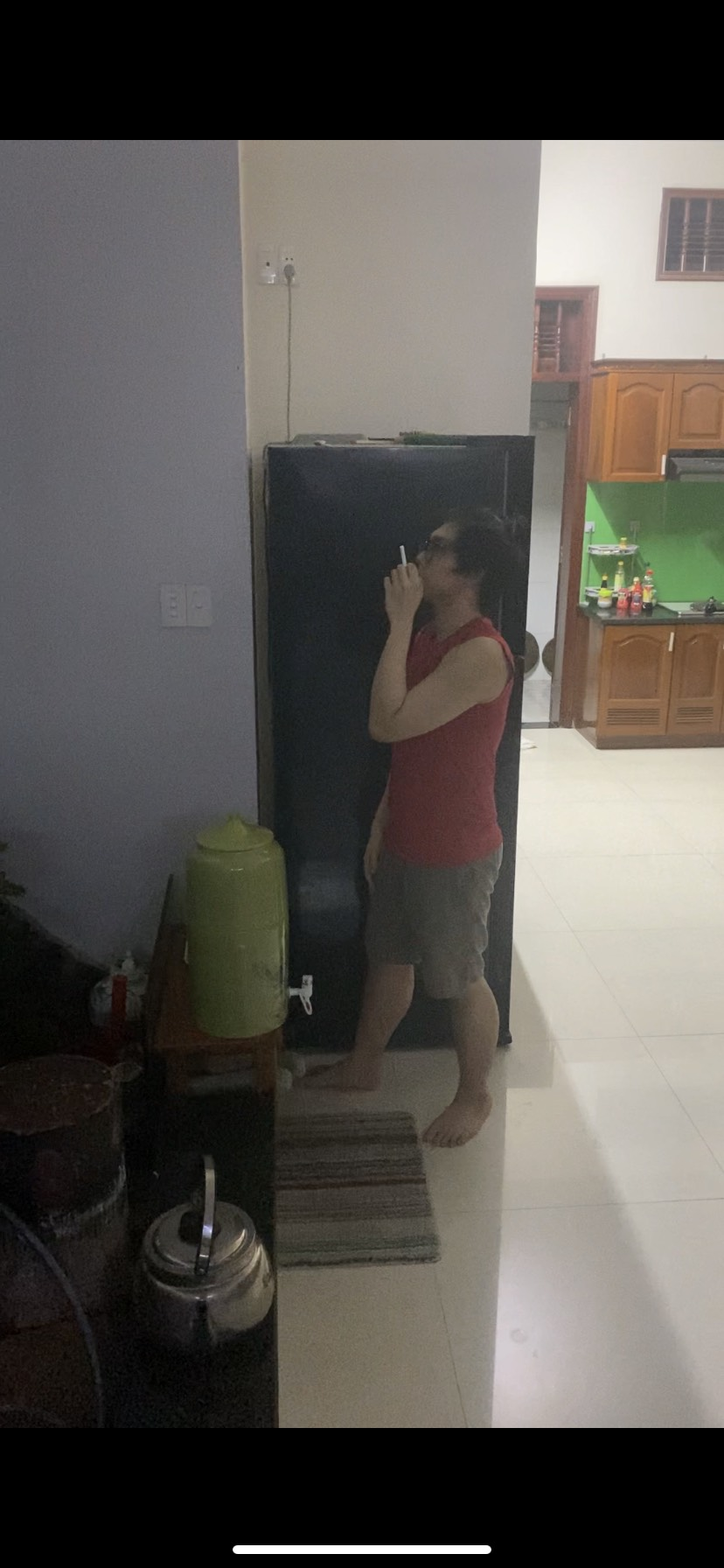cigarette: (395, 542, 409, 566)
person: (346, 489, 525, 1163)
